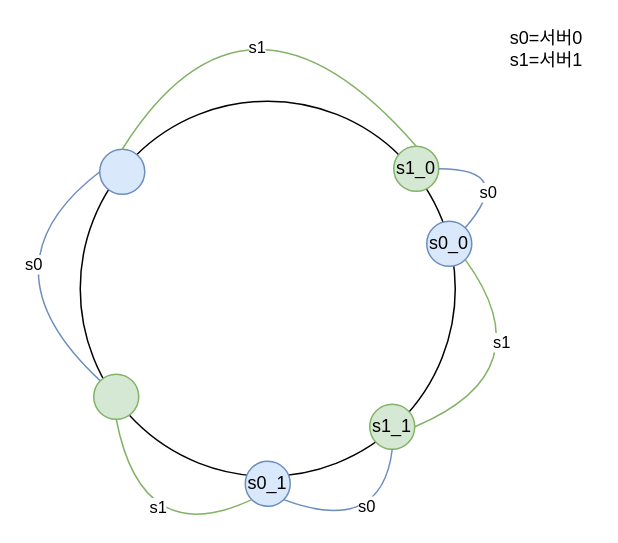
Some shapes in this 618 by 543 pixel diagram are drawn without their labels. The box of each missing label's shape, as (x1, y1, x2, y2) in pixels:
s0_2: (98, 148, 145, 194)
s1_2: (92, 373, 139, 419)
